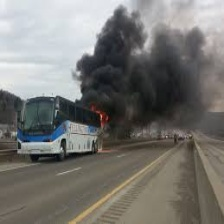smoke: (81, 20, 203, 120)
